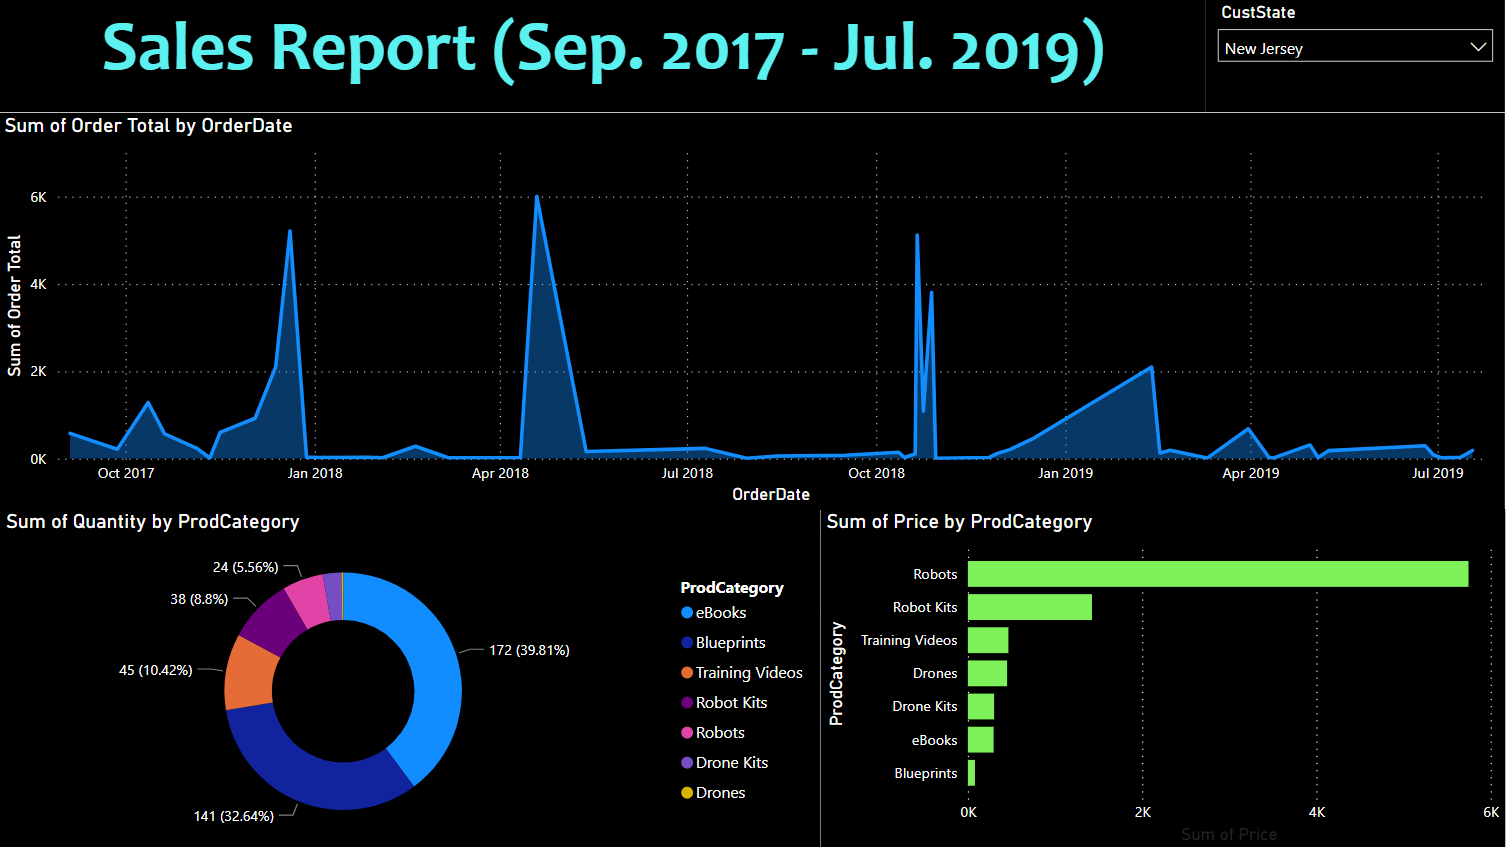

Layout of this report page (visuals, bound fields, positions):
{"tool":"powerbi","page":{"name":"Sales","canvas":[1280,720],"ordinal":0},"visuals":[{"type":"textbox","box":[10.4,0,1016.7,97.9],"z":0},{"type":"stackedAreaChart","fields":{"Category":["Table_1.OrderDate"],"Y":["Sum(Table_1.Order Total)"]},"box":[9.4,98.3,1269.9,334.5],"z":1000},{"type":"donutChart","fields":{"Category":["Table_1.ProdCategory"],"Y":["Sum(Table_1.Quantity)"]},"box":[10.6,432.7,691.4,287.5],"z":2000},{"type":"slicer","fields":{"Values":["Table_1.CustState"]},"box":[1027.1,0,252.1,97.9],"z":3000},{"type":"barChart","fields":{"Category":["Table_1.ProdCategory"],"Y":["Sum(Table_1.Price)"]},"box":[702,433,577,287],"z":4000}]}

Visuals, with their boxes in screenshot pixels (x1, y1, x2, y2), scaled from the page's 1280x720 canvas onto the 1506x847 screenshot:
textbox: detection(12, 0, 1208, 115)
stackedAreaChart - Table_1.OrderDate x Sum(Table_1.Order Total): detection(11, 116, 1505, 509)
donutChart - Table_1.ProdCategory x Sum(Table_1.Quantity): detection(12, 509, 826, 846)
slicer - Table_1.CustState: detection(1208, 0, 1505, 115)
barChart - Table_1.ProdCategory x Sum(Table_1.Price): detection(826, 509, 1505, 846)
